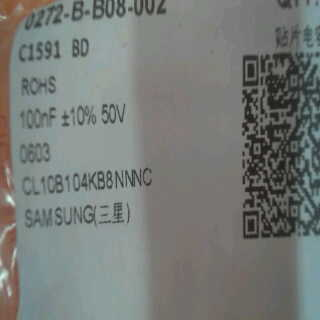100nF: (13, 107, 57, 132)
